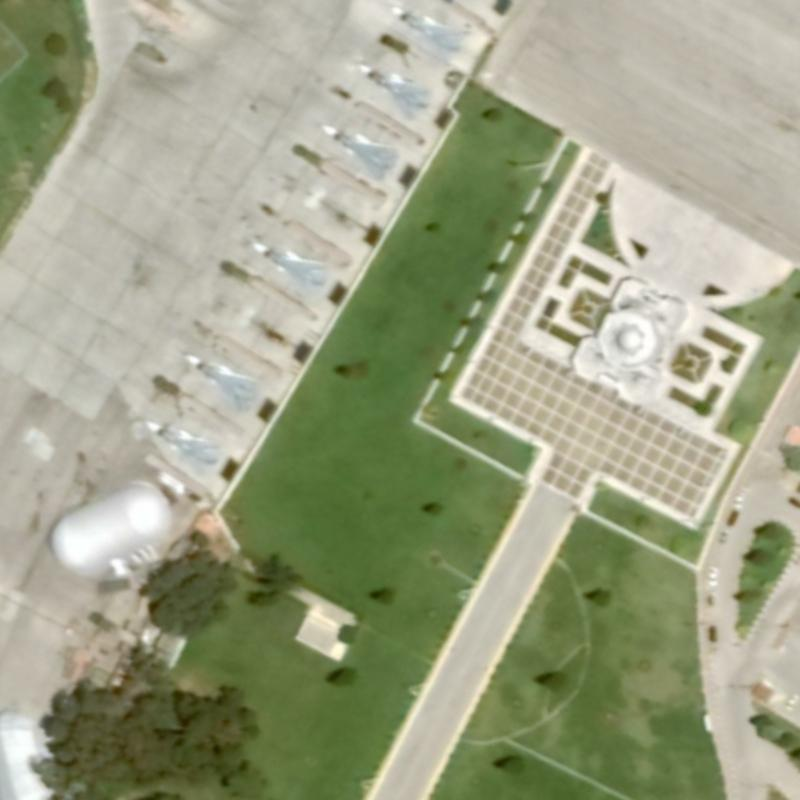A20: (246, 236, 339, 300), (314, 120, 406, 184), (178, 348, 267, 413), (386, 2, 473, 66), (140, 417, 225, 479), (355, 60, 437, 120)
